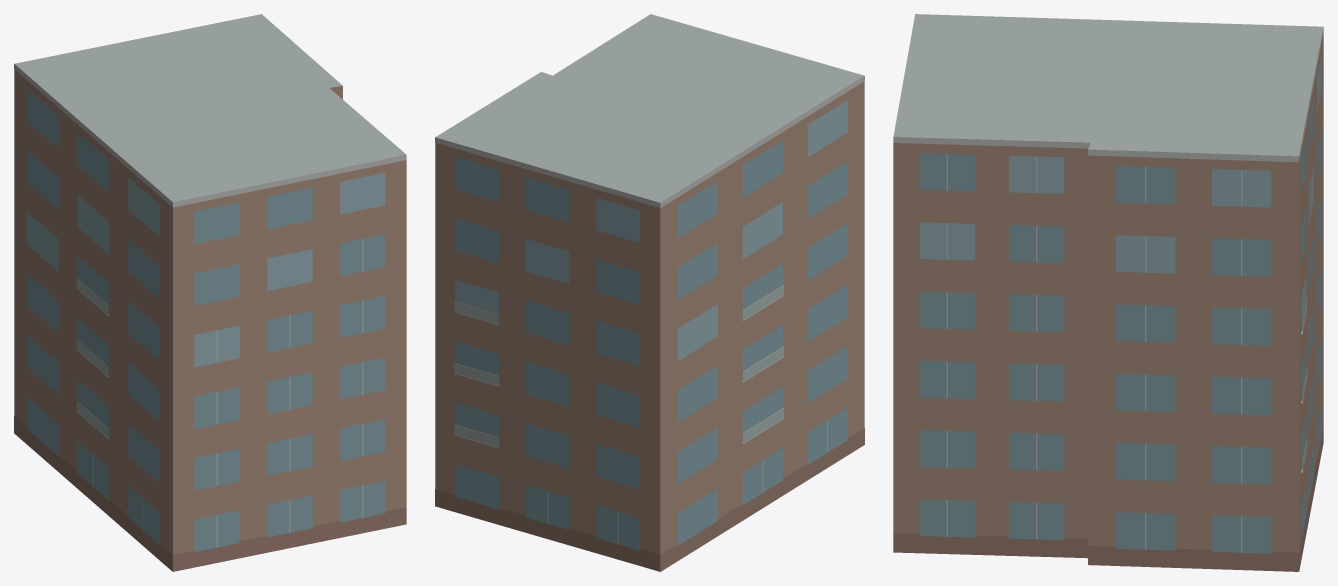
Rendered from survey-upis-32936618.glb.
3 views of the same model, side by side, from view 1: azimuth 30°, elevation 25°; view 2: azimuth 150°, elevation 25°; view 3: azimuth 270°, elevation 25° (orthographic). The views are drawn at different scales.
Parts seen in each view (by area): view 1: survey-upis-32936618.tmp; view 2: survey-upis-32936618.tmp; view 3: survey-upis-32936618.tmp.
Boxes of the visible parts, bbox=[...] form: survey-upis-32936618.tmp: bbox=[14, 14, 406, 571]; survey-upis-32936618.tmp: bbox=[435, 14, 864, 571]; survey-upis-32936618.tmp: bbox=[893, 14, 1323, 571].
Size of the model in its own units: 12.5 by 17 by 15.96.
